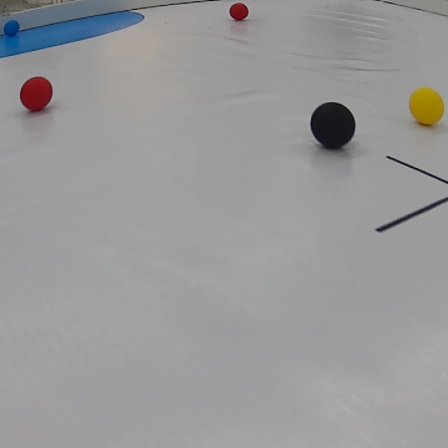black: (304, 99, 363, 152)
blue: (4, 18, 22, 39)
blue_base: (0, 6, 146, 63)
red: (17, 72, 55, 115), (224, 4, 254, 21)
yellow: (408, 85, 446, 127)
